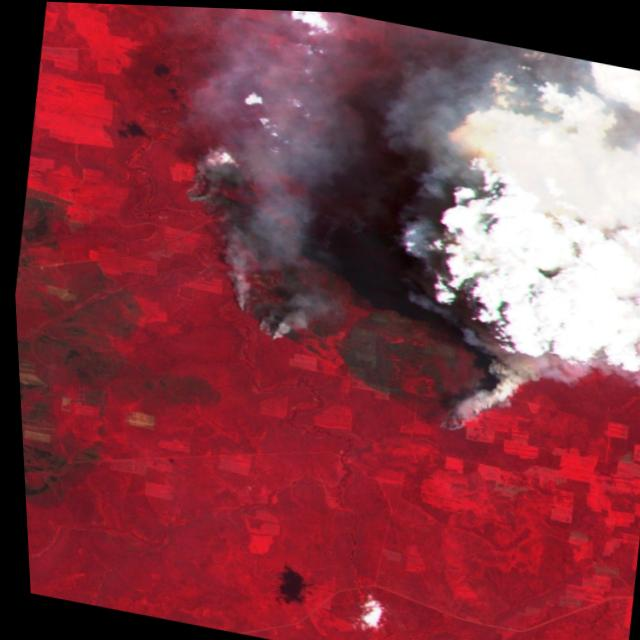fire: (144, 141, 571, 454)
